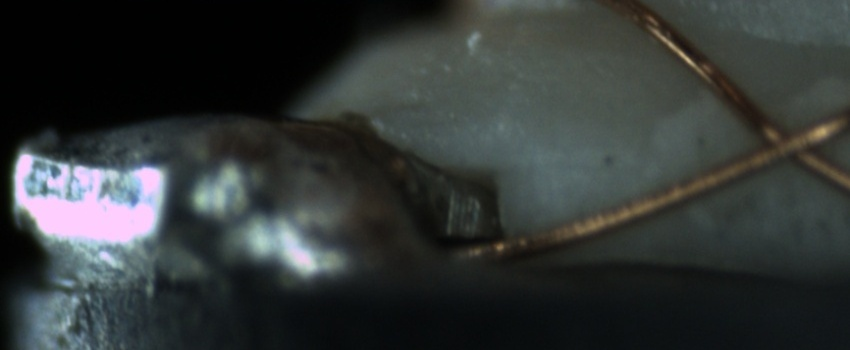CL: (717, 95, 840, 182)
DL: (530, 137, 657, 193)
